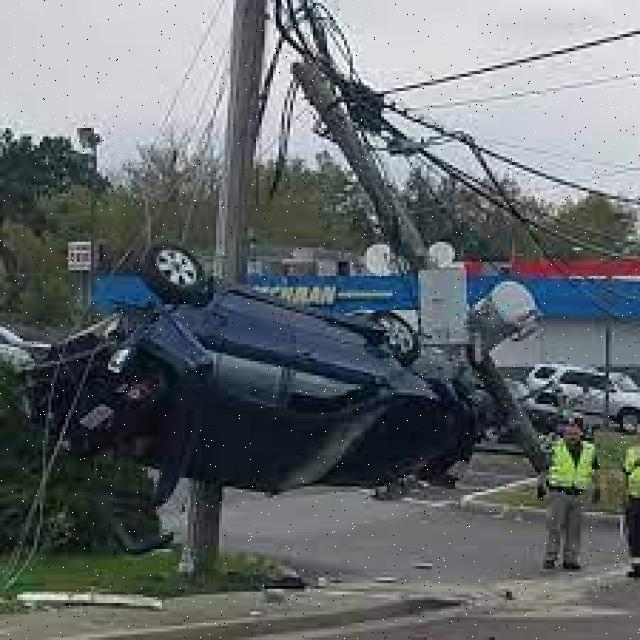severe: (20, 236, 495, 509)
